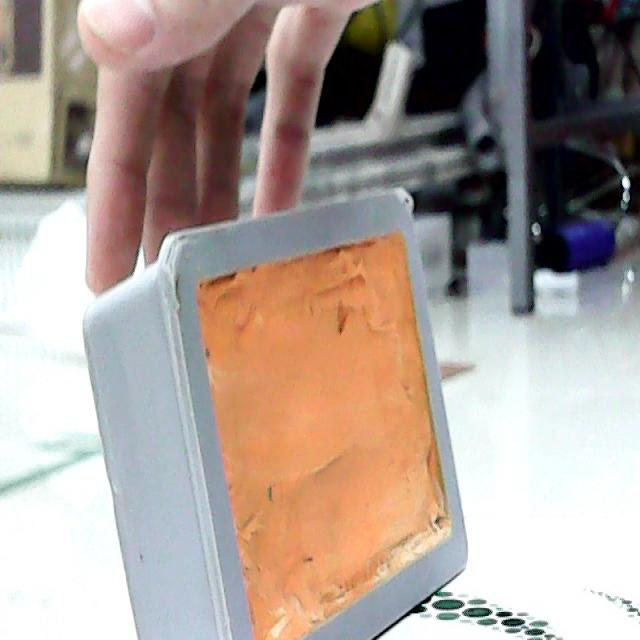block: (74, 185, 479, 640)
